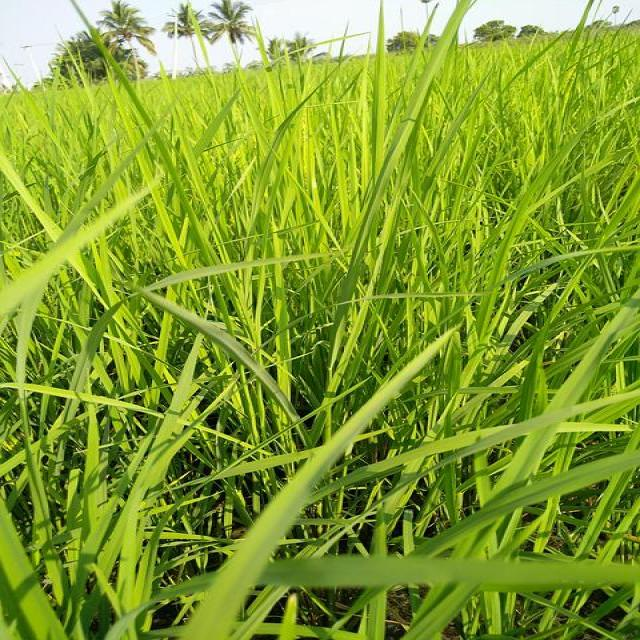Rice: (411, 453, 640, 554), (296, 338, 444, 448), (522, 321, 628, 451), (478, 158, 546, 340), (230, 447, 340, 557), (138, 329, 206, 486), (248, 558, 640, 585), (0, 506, 64, 640), (179, 563, 265, 640), (578, 462, 636, 550), (81, 402, 104, 543), (118, 490, 140, 625), (541, 580, 569, 626)
